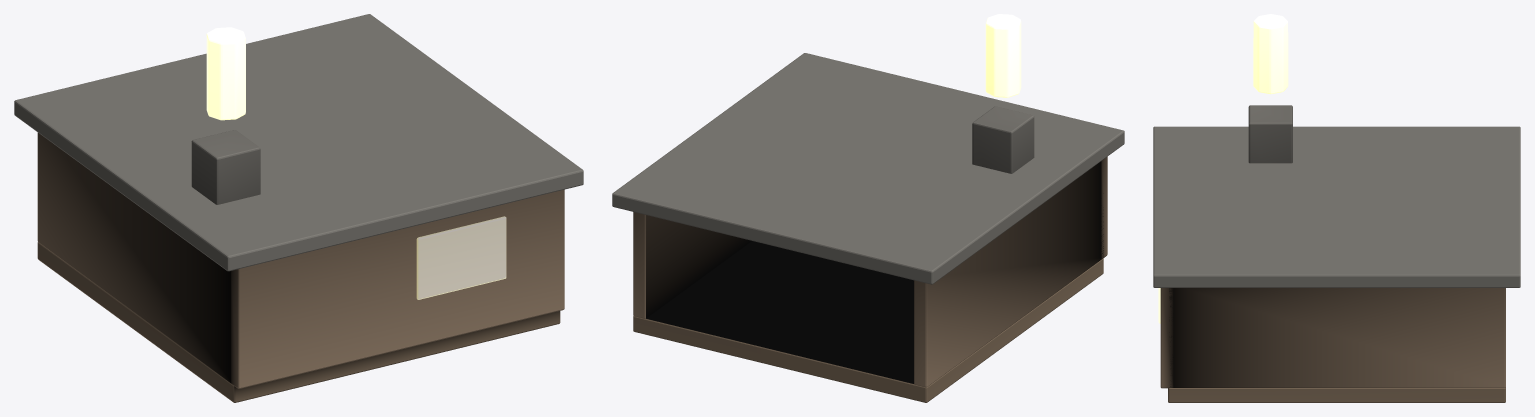
Rendered from workshop_l3.glb.
3 views of the same model, side by side, from view 1: azimuth 30°, elevation 25°; view 2: azimuth 150°, elevation 25°; view 3: azimuth 270°, elevation 25° (orthographic). The views are drawn at different scales.
Parts seen in each view (by area): view 1: upper_floor; view 2: upper_floor; view 3: upper_floor.
Part boxes in pixels (bbox=[...]): upper_floor: bbox=[14, 14, 583, 402]; upper_floor: bbox=[612, 14, 1124, 402]; upper_floor: bbox=[1153, 14, 1520, 402].
Bounding box in the file's own units: 2.4 × 2.01 × 2.5.
